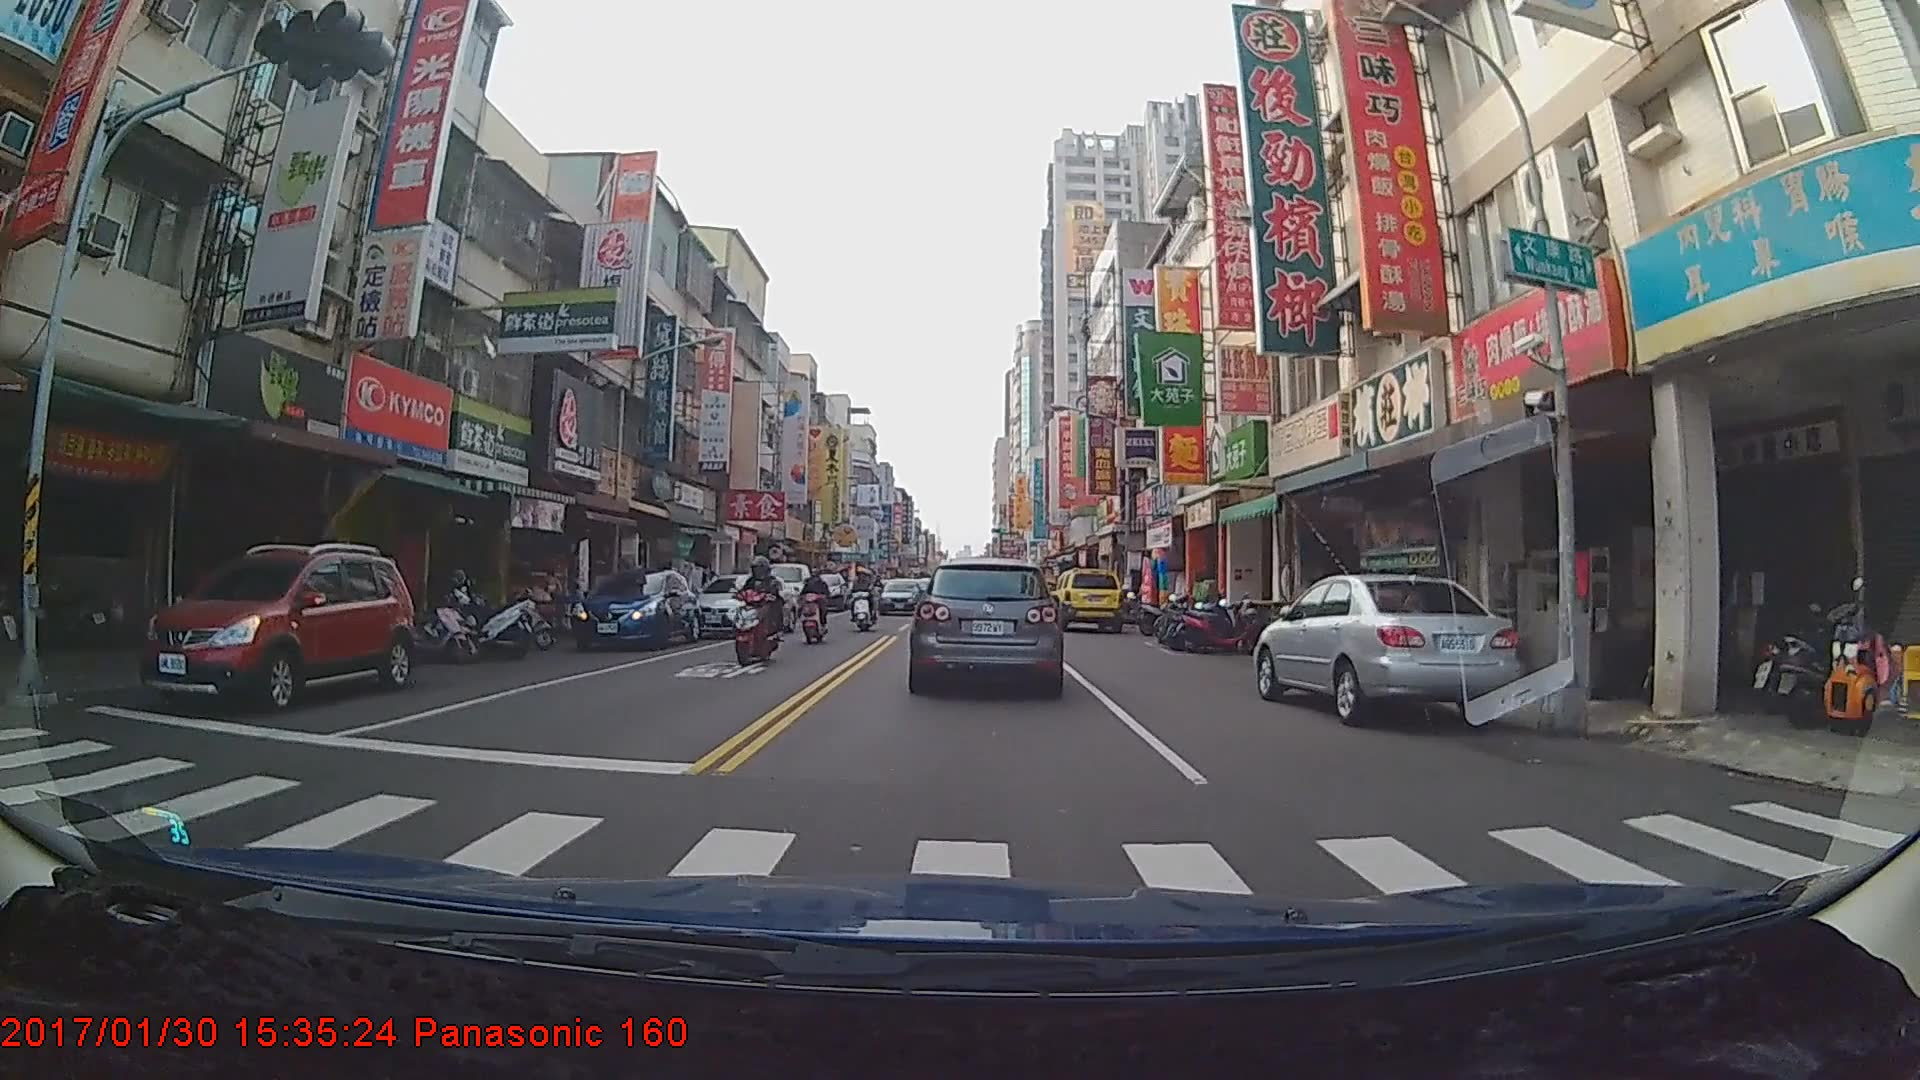rider: (730, 555, 788, 675), (796, 568, 831, 645), (848, 576, 879, 642)
vehicle: (135, 545, 413, 710), (1250, 572, 1521, 727), (913, 554, 1060, 694), (567, 570, 702, 651), (689, 574, 796, 637), (1044, 567, 1124, 631), (755, 563, 811, 618), (875, 578, 925, 616)
